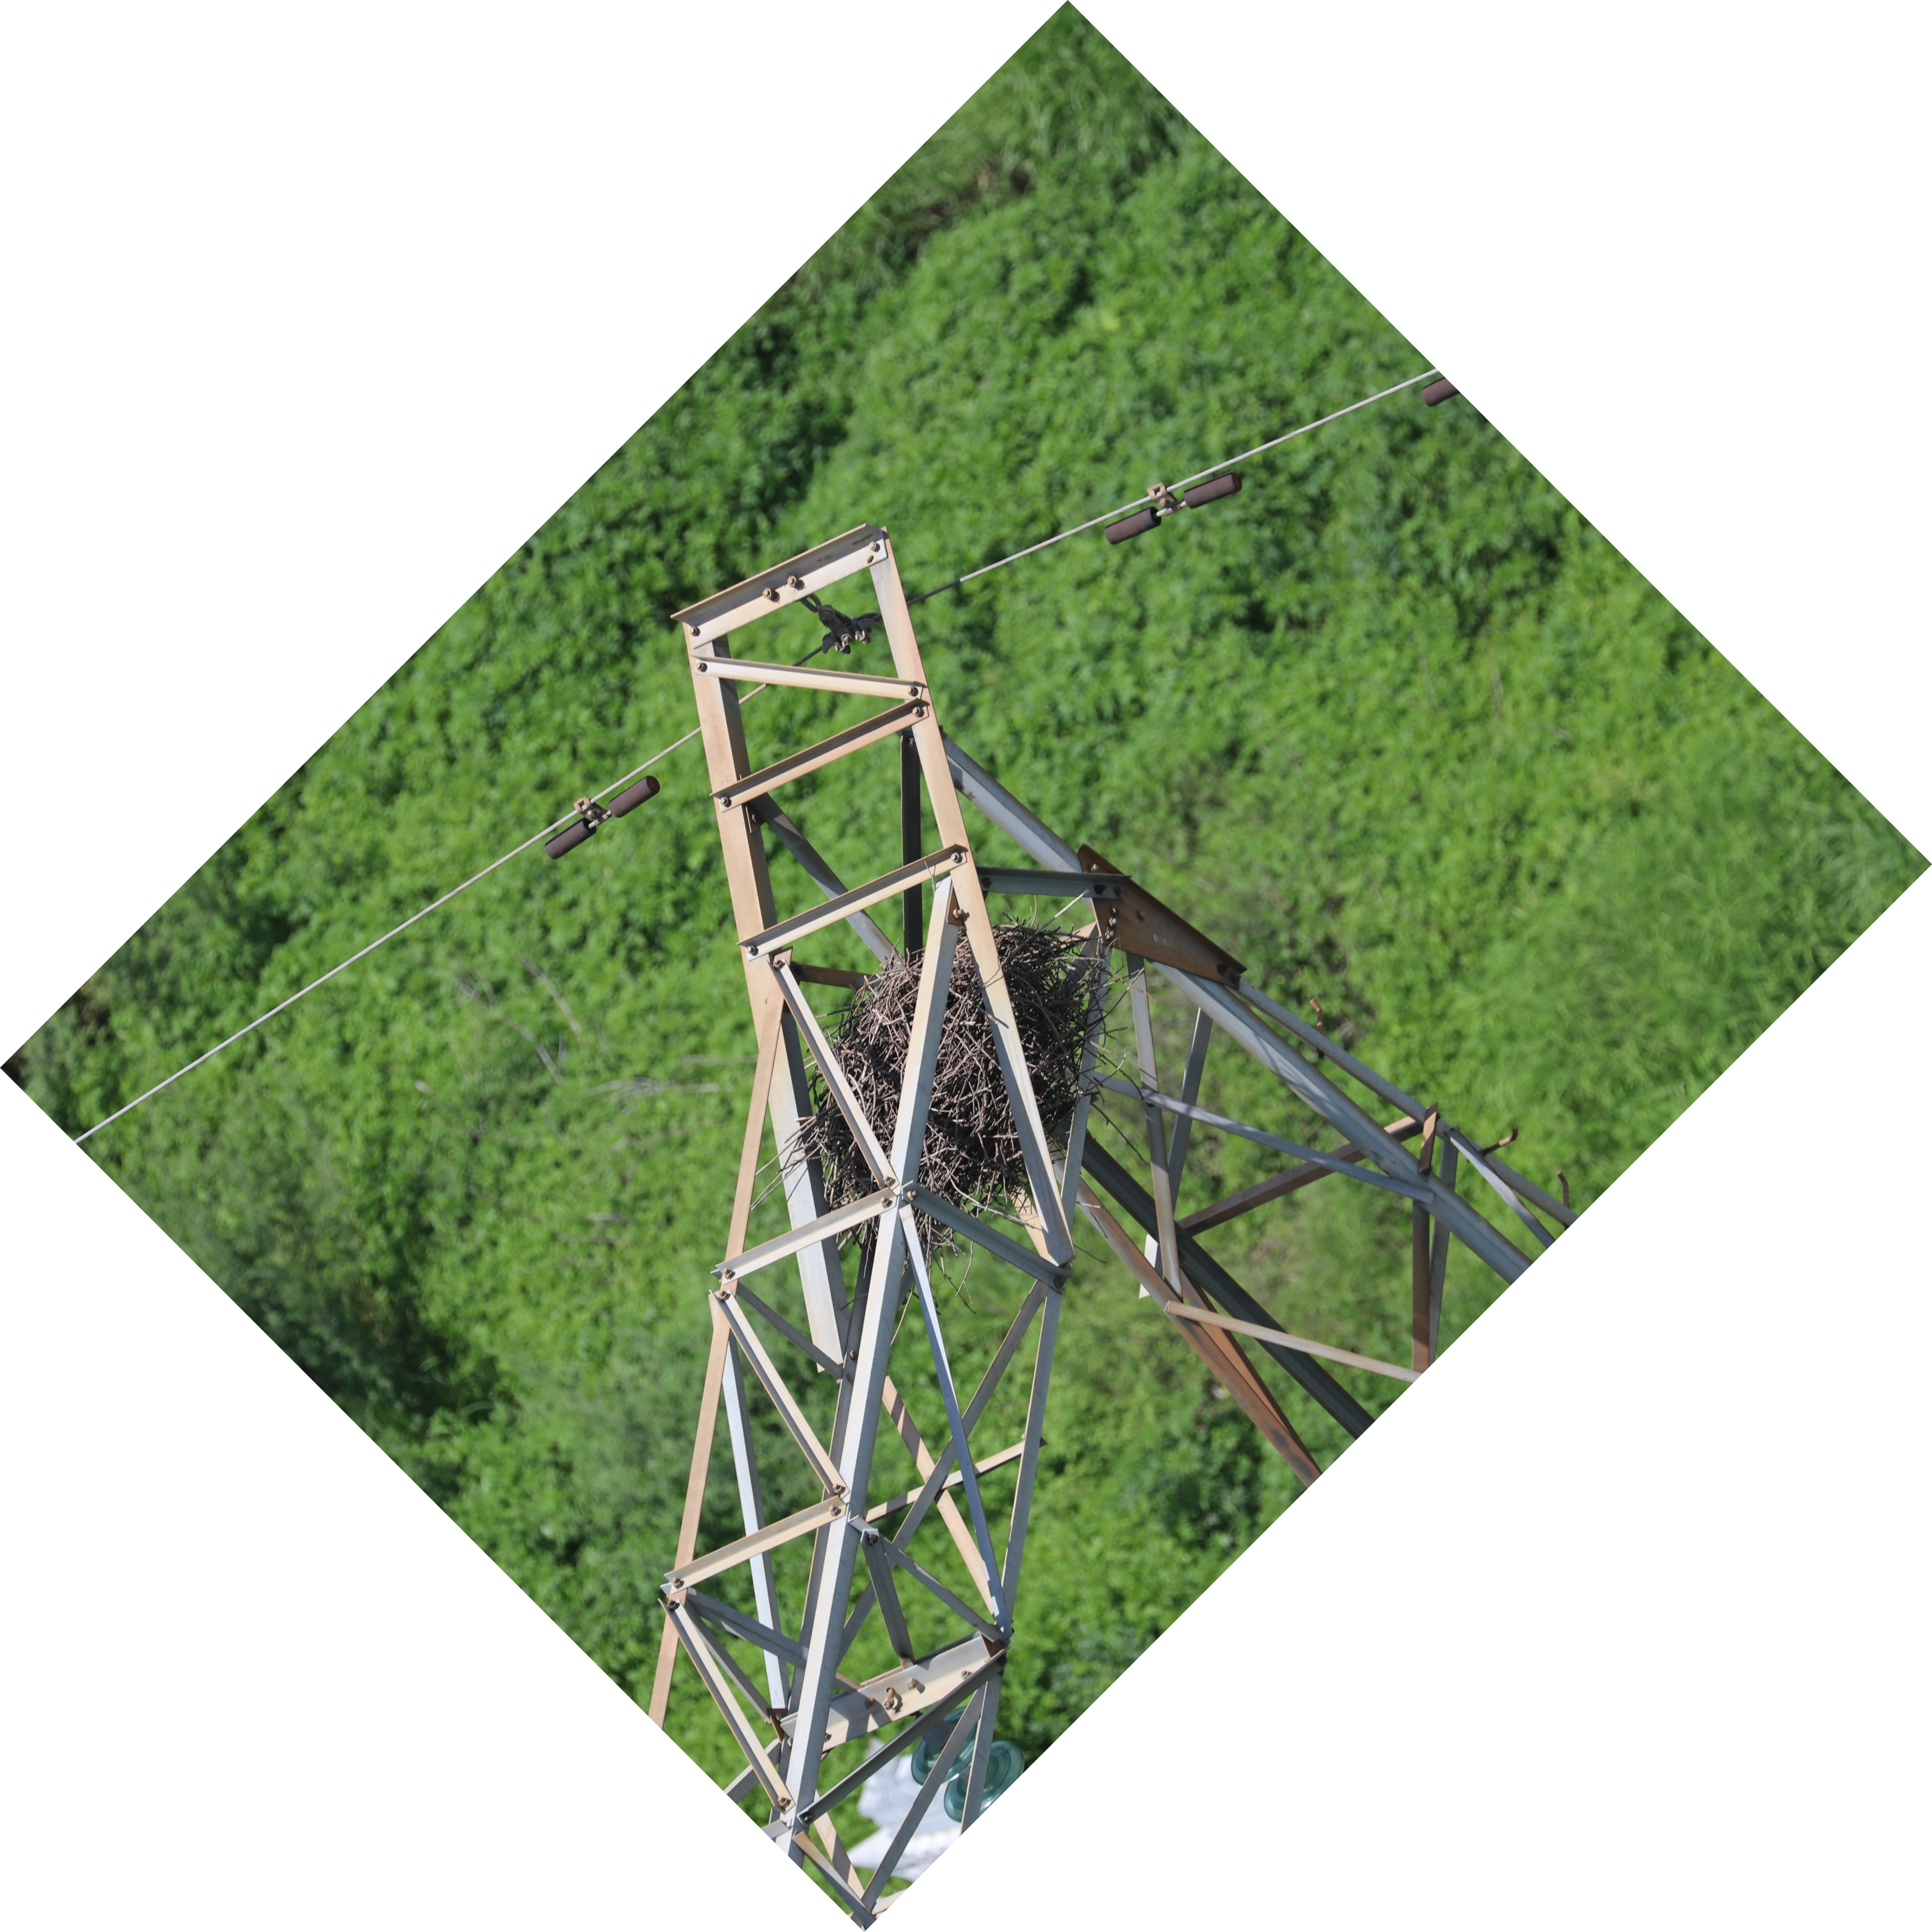niaowo: (755, 901, 1104, 1215)
